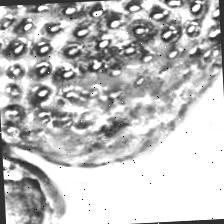Powdery Mildew Fruit: (17, 47, 224, 172)
